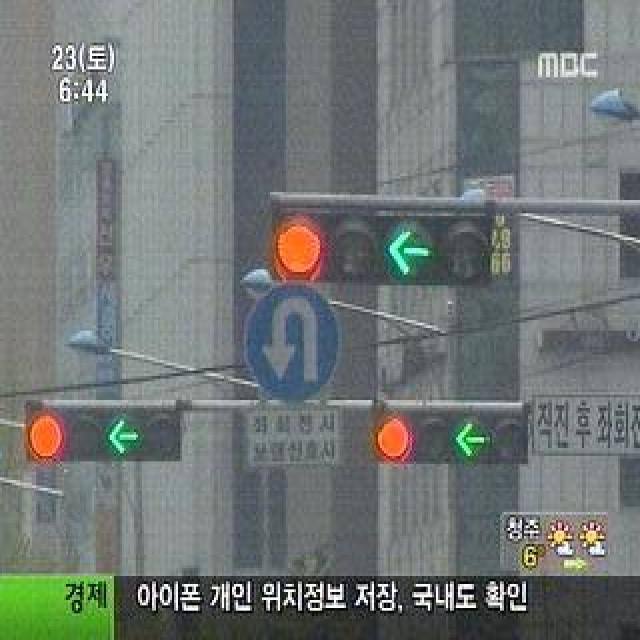Red Light: (271, 208, 324, 282), (374, 408, 413, 464), (29, 409, 63, 462)
